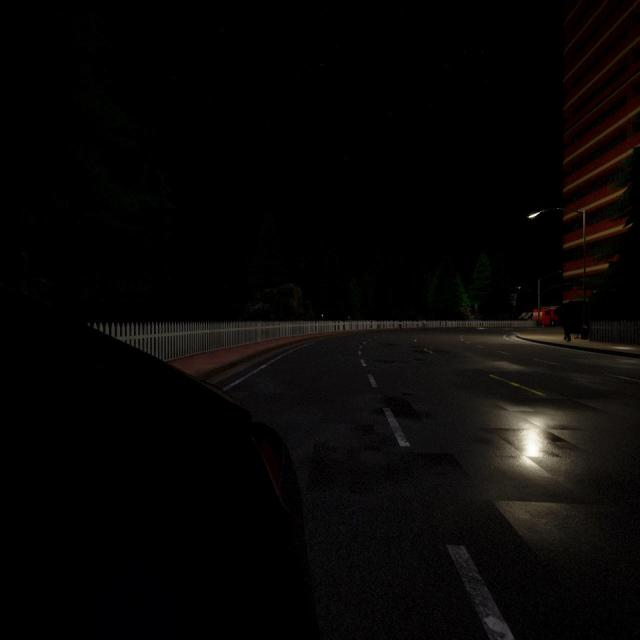Pedestrian: (561, 301, 572, 343)
Vehicle: (0, 276, 316, 640), (532, 306, 560, 328)
